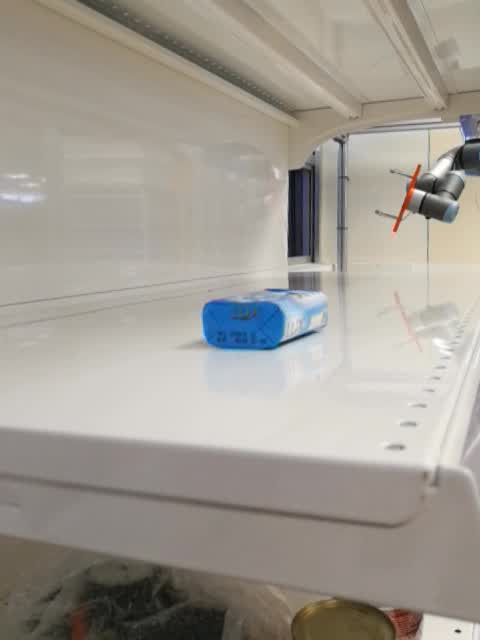soap: (201, 287, 330, 351)
